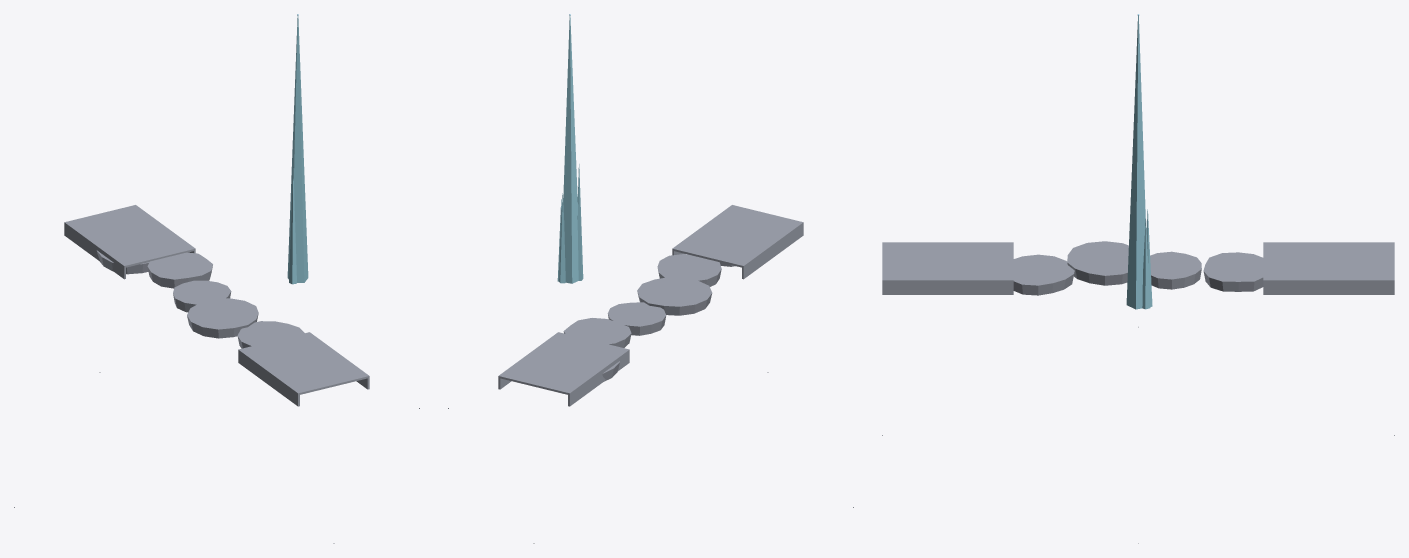
File: chunk_es_path_stepping.fbx
3 views of the same model, side by side, from view 1: azimuth 30°, elevation 25°; view 2: azimuth 150°, elevation 25°; view 3: azimuth 270°, elevation 25° (orthographic). The views are drawn at different scales.
Parts seen in each view (by area): view 1: ES_PATH_STEPPING; view 2: ES_PATH_STEPPING; view 3: ES_PATH_STEPPING.
Part boxes in pixels (x1,y1,x2,y2): ES_PATH_STEPPING: (14, 14, 419, 543); ES_PATH_STEPPING: (448, 14, 853, 543); ES_PATH_STEPPING: (882, 14, 1394, 543).
Size of the model in its own units: 256 by 256 by 256.
